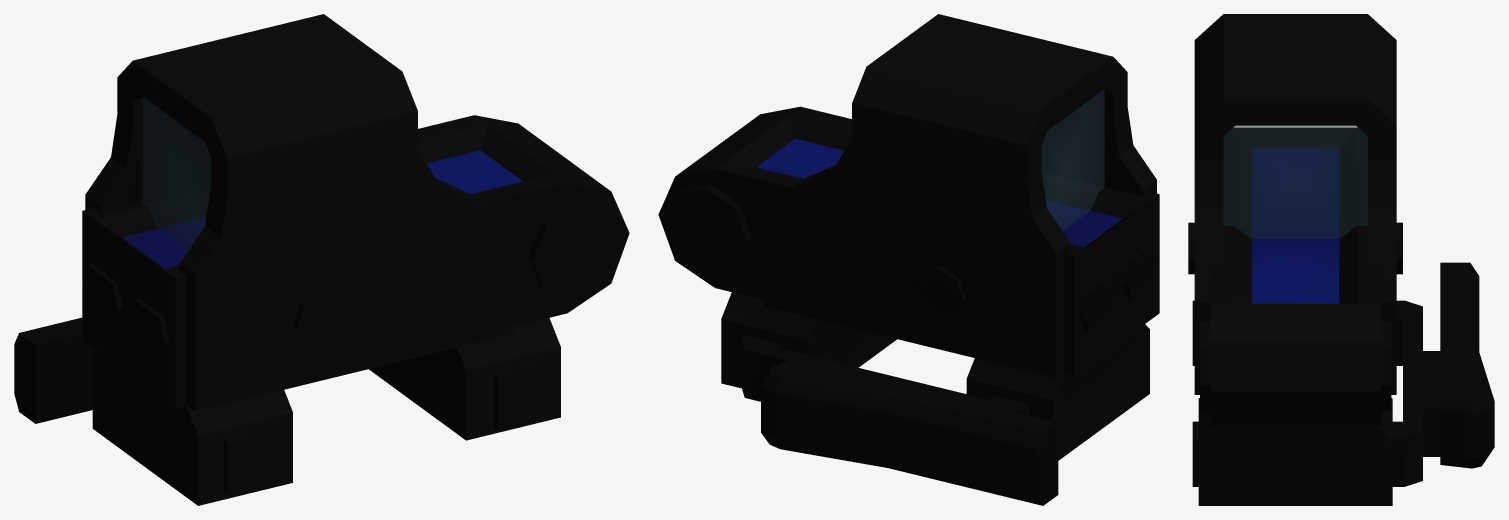
File: k-att-holographic-west.glb
The picture shows the model from 3 angles, left to right: view 1: azimuth 30°, elevation 25°; view 2: azimuth 150°, elevation 25°; view 3: azimuth 270°, elevation 25°; orthographic projection. The views are drawn at different scales.
Visible parts, largest first — view 1: kit (×3), lens; view 2: kit (×3), lens; view 3: kit (×3), lens.
Boxes of the visible parts, left/top/right/bottom form: kit (×3): left=14, top=14, right=629, bottom=505; lens: left=142, top=97, right=211, bottom=250; kit (×3): left=658, top=14, right=1159, bottom=505; lens: left=1041, top=90, right=1104, bottom=230; kit (×3): left=1188, top=14, right=1494, bottom=505; lens: left=1223, top=125, right=1367, bottom=238.
Size of the model in its own units: 0.0762 by 0.0588 by 0.047.
